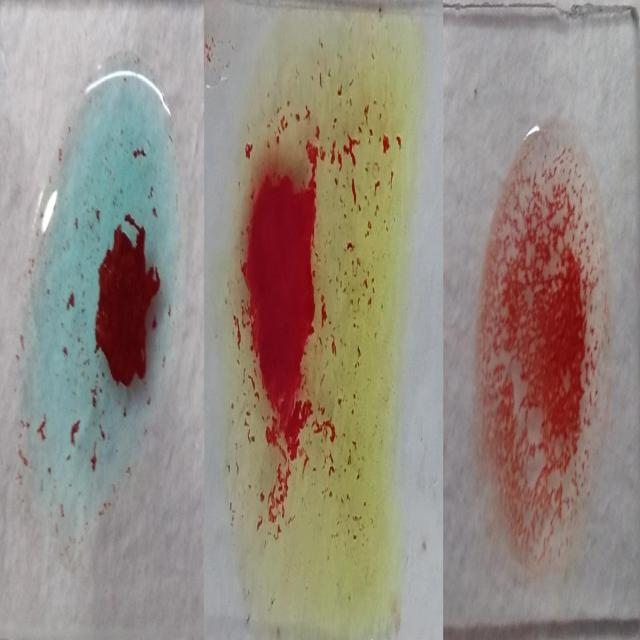A: (17, 70, 182, 528)
B: (227, 27, 390, 594)
D: (476, 100, 608, 574)
